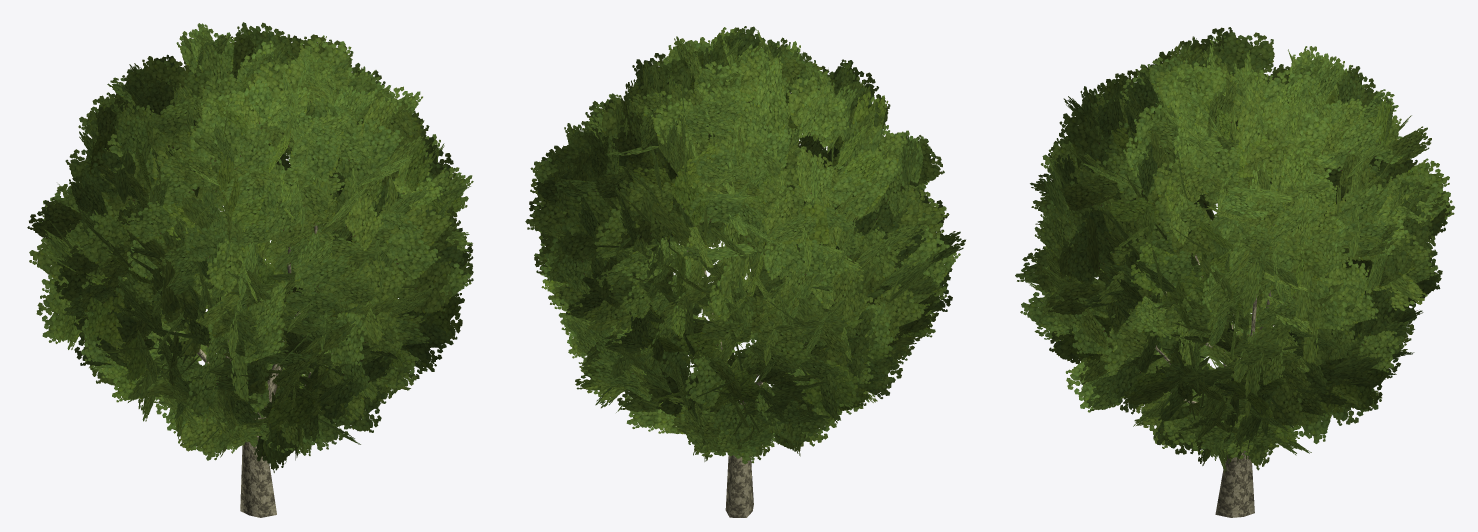
Rendered from arbre_platane_lod1.glb.
3 renders of one model, left to right at view 1: azimuth 30°, elevation 25°; view 2: azimuth 150°, elevation 25°; view 3: azimuth 270°, elevation 25°, orthographic. The views are drawn at different scales.
Visible parts, largest first — view 1: arbre_platane_lod1; view 2: arbre_platane_lod1; view 3: arbre_platane_lod1.
Boxes of the visible parts, <box> form: arbre_platane_lod1: <box>27,22,473,517</box>; arbre_platane_lod1: <box>525,26,965,517</box>; arbre_platane_lod1: <box>1015,27,1454,517</box>.
Size of the model in its own units: 13.98 by 15.81 by 13.83.
Materials: 2 (2 with a texture image).
